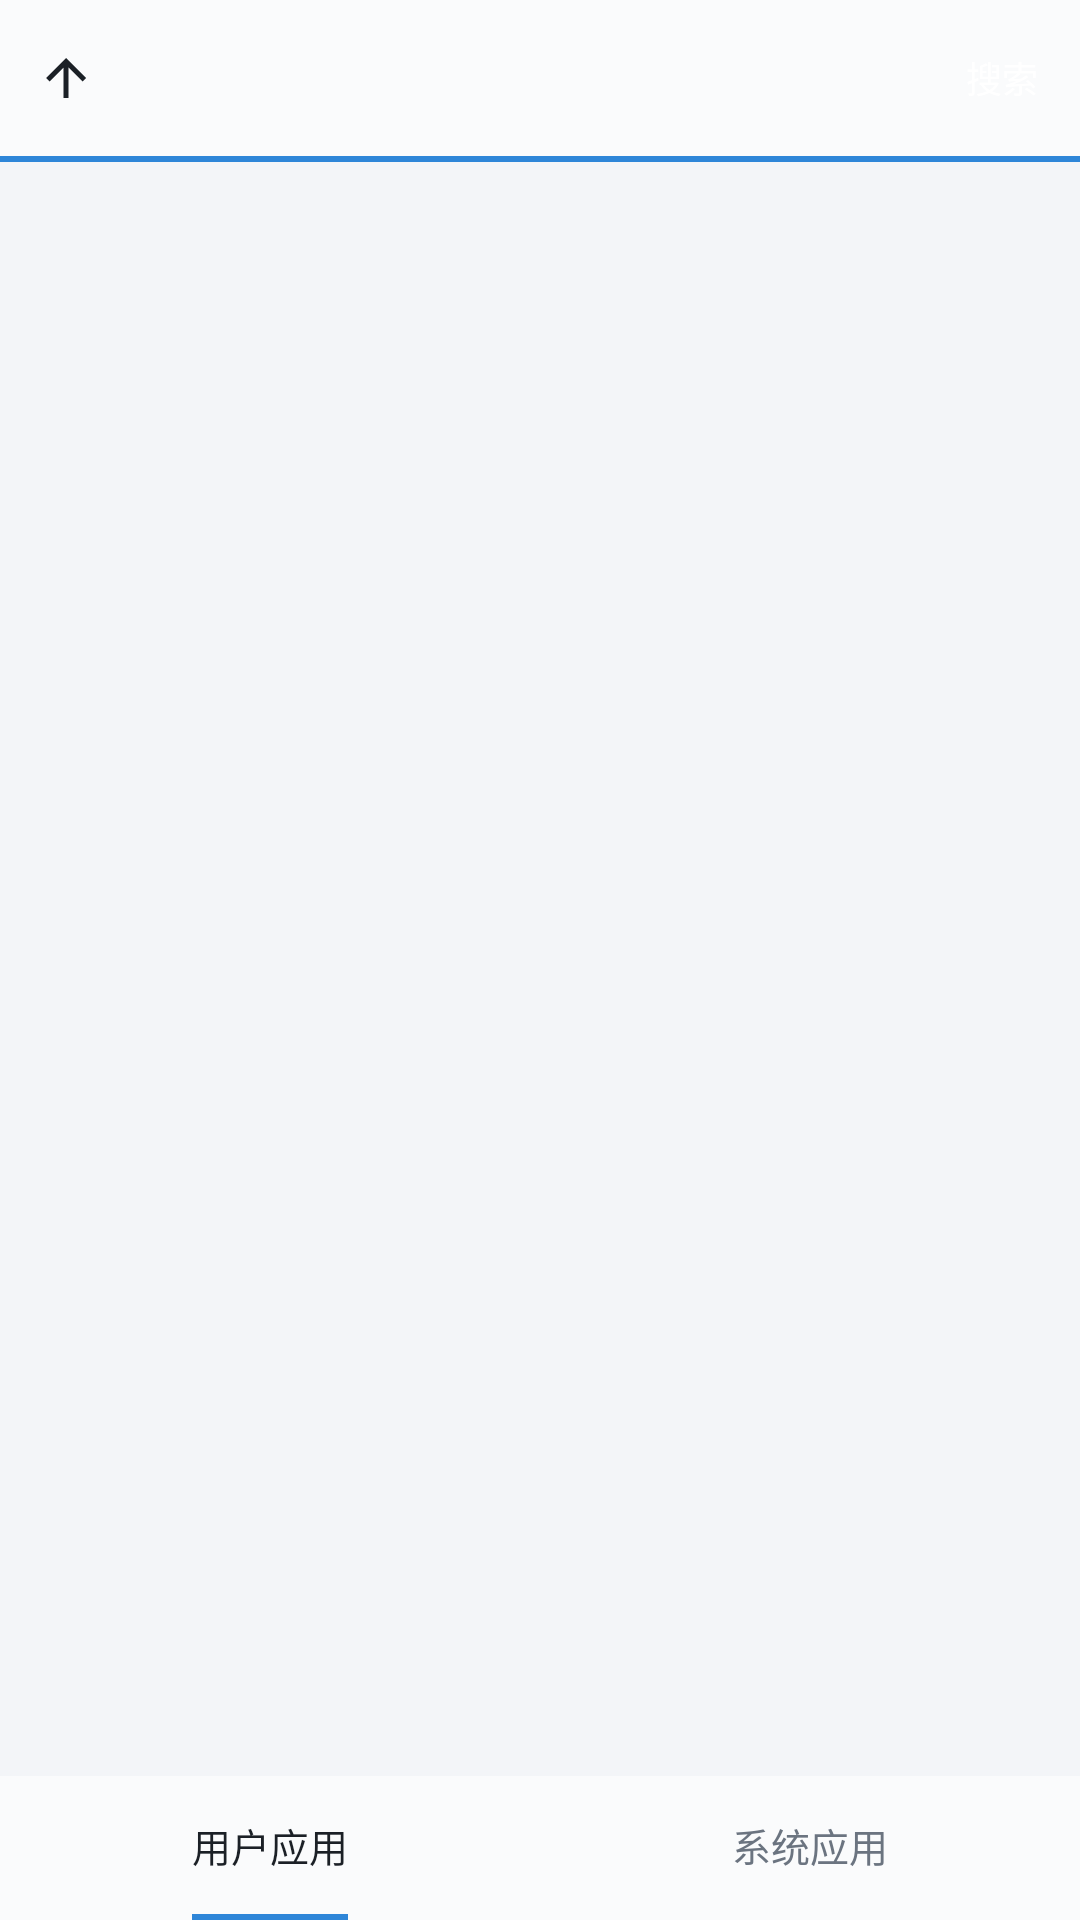

Screen size 1080*1920. Icon name, then its center in pixels as [x,y]:
返回: [66,78]
